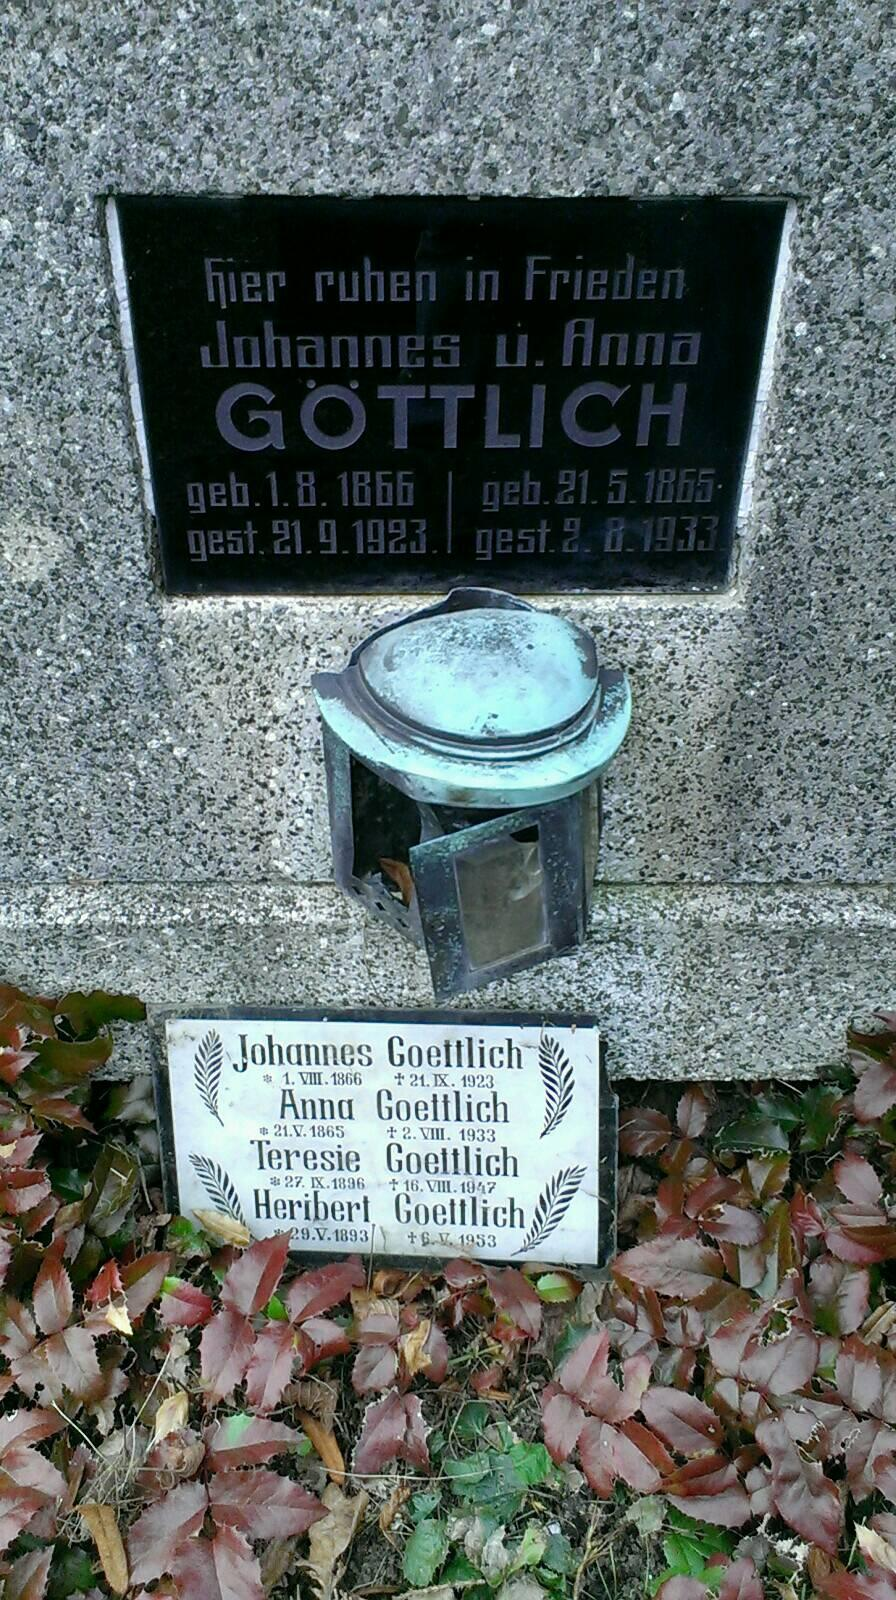upright: (0, 0, 896, 1084)
